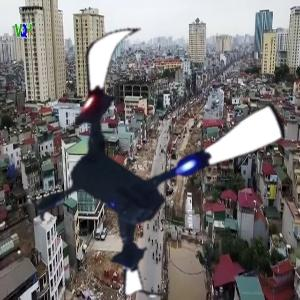drone: (5, 14, 284, 293)
